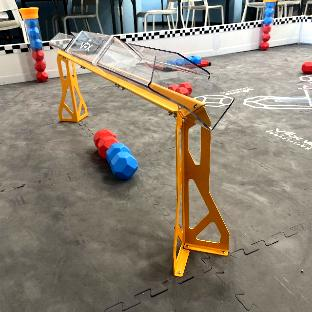V5_BLUE: (107, 143, 137, 178)
V5_RED: (94, 128, 117, 157)
